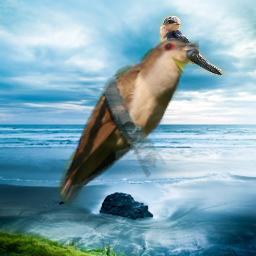Cuckoo: (53, 38, 199, 209)
Swallow: (159, 12, 228, 78)
